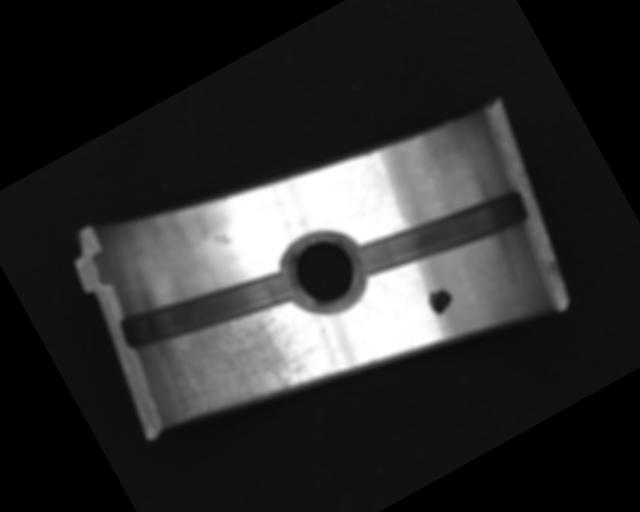blot: (424, 283, 457, 318)
bruise: (210, 227, 235, 251)
gap: (113, 233, 306, 380), (351, 164, 534, 301)
hole: (275, 220, 374, 322)
nick: (360, 172, 411, 239), (358, 289, 389, 328)
scratch: (134, 275, 340, 460)
